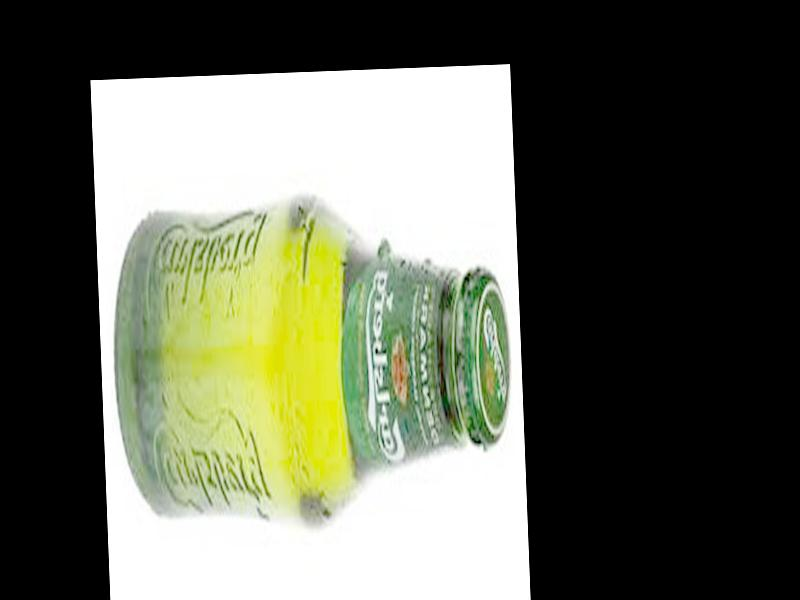Beer: (106, 190, 515, 527)
